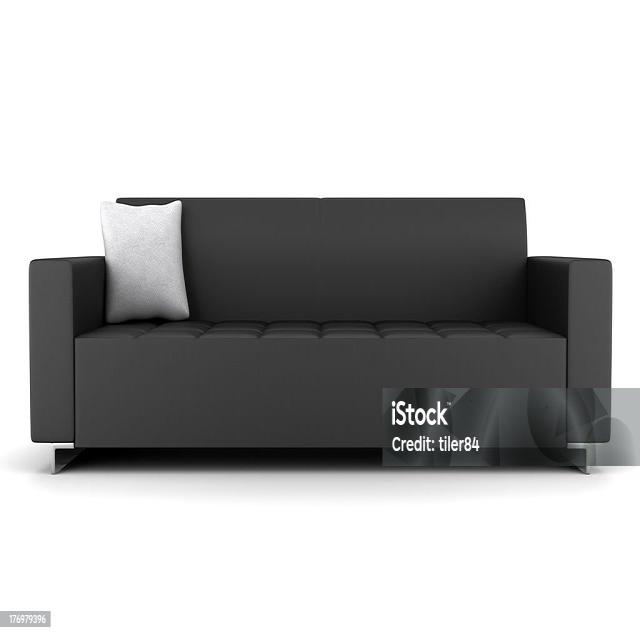back_cushion: (182, 198, 526, 321)
left_arm: (528, 259, 611, 443)
legs: (52, 443, 76, 474), (568, 443, 590, 473)
right_arm: (29, 258, 103, 441)
seat_cushion: (75, 323, 568, 464)
stallion-sofa: (0, 1, 639, 639)
